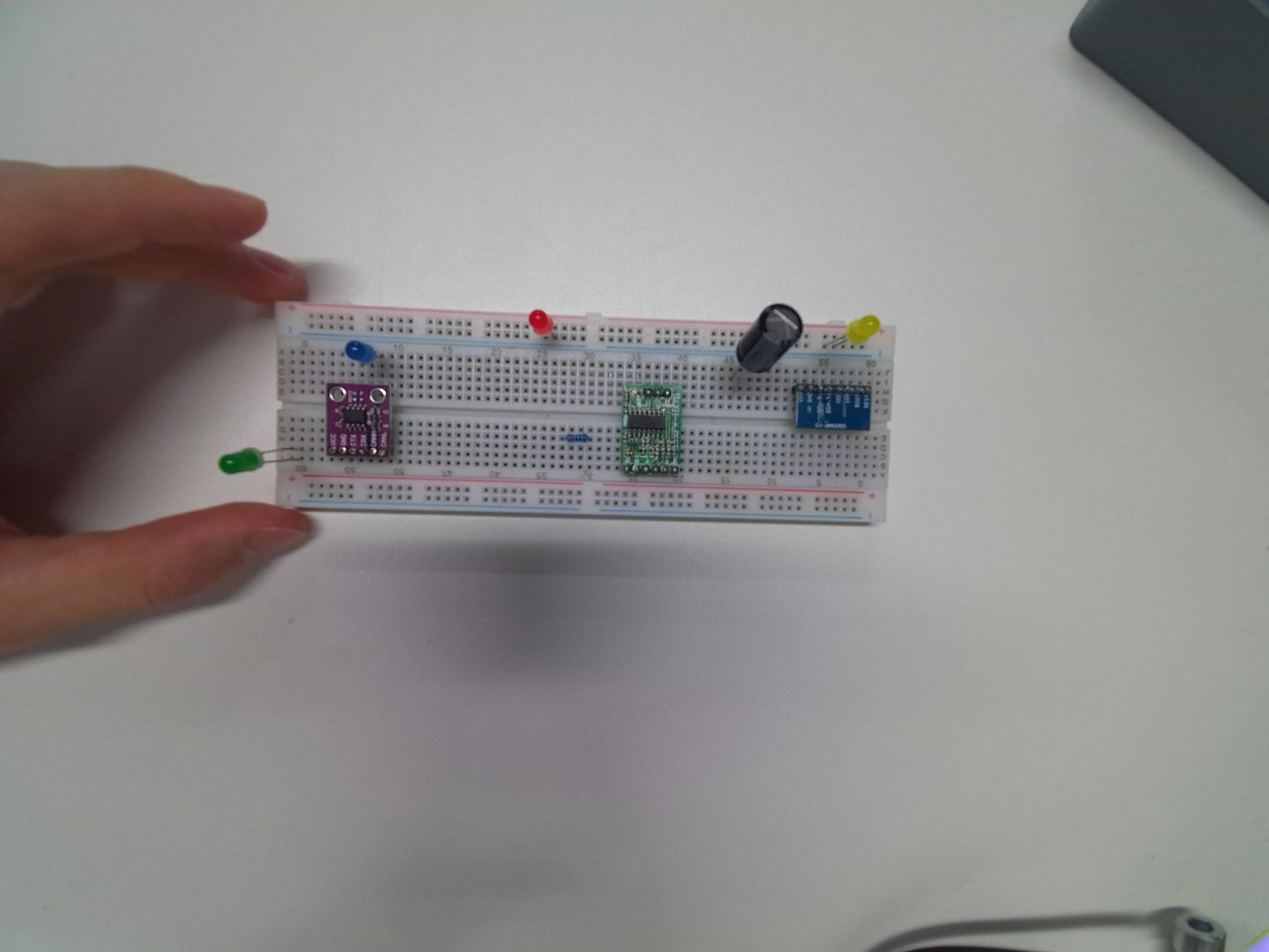base: (271, 300, 898, 531)
blue-board: (794, 379, 873, 432)
blue-led: (347, 338, 373, 364)
capacitor: (736, 304, 805, 378)
green-board: (616, 383, 687, 476)
green-led: (217, 443, 265, 483)
purple-board: (325, 378, 394, 463)
red-led: (529, 309, 555, 338)
resistor-small: (558, 430, 588, 447)
yellow-led: (843, 310, 883, 349)
